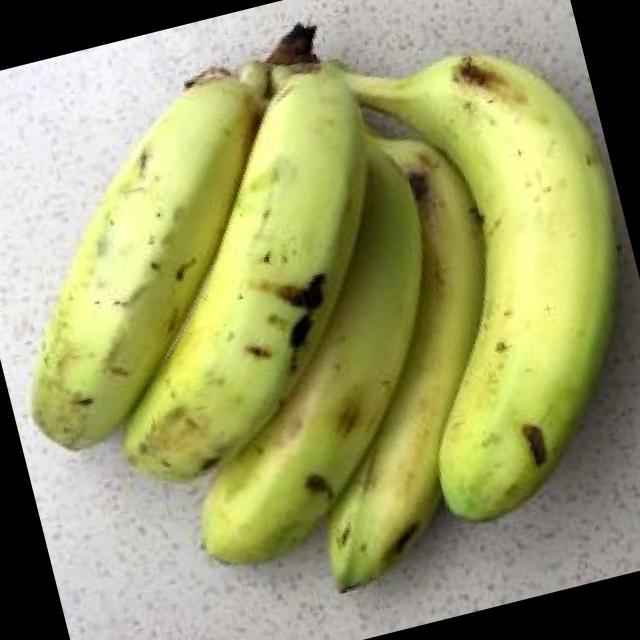banana: (59, 176, 539, 560)
